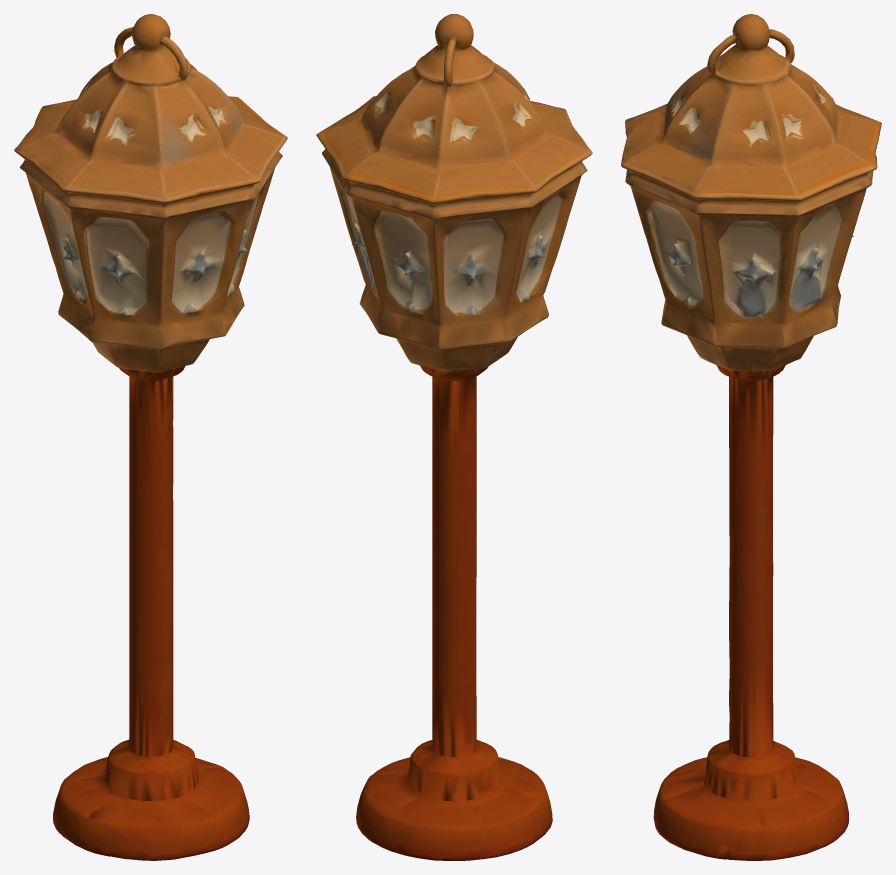
Rendered from wuesten_laterne_a.glb.
3 renders of one model, left to right at view 1: azimuth 30°, elevation 25°; view 2: azimuth 150°, elevation 25°; view 3: azimuth 270°, elevation 25°, orthographic.
Visible parts, largest first — view 1: tripo_node_034f8fe9-d7f3-47aa-8780-cf40d5832173; view 2: tripo_node_034f8fe9-d7f3-47aa-8780-cf40d5832173; view 3: tripo_node_034f8fe9-d7f3-47aa-8780-cf40d5832173.
Boxes of the visible parts, box(x1,y1,x2,y2) form: tripo_node_034f8fe9-d7f3-47aa-8780-cf40d5832173: box(14, 14, 287, 860); tripo_node_034f8fe9-d7f3-47aa-8780-cf40d5832173: box(316, 14, 592, 860); tripo_node_034f8fe9-d7f3-47aa-8780-cf40d5832173: box(621, 14, 881, 860).
Bounding box in the file's own units: 0.2943 × 0.9993 × 0.2933.
1 material, 1 textured.
